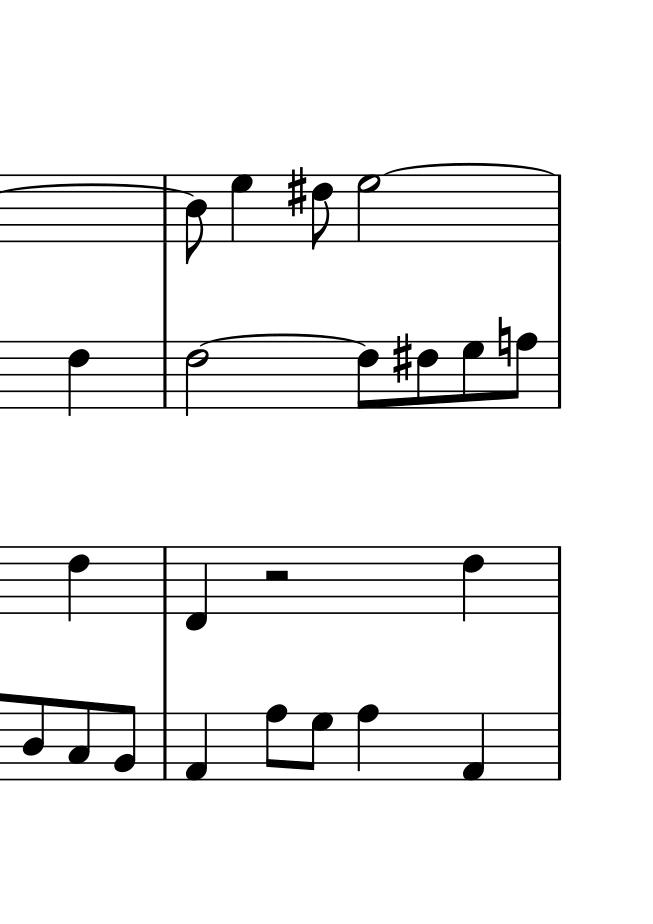2_6: (184, 340, 208, 416)
2_7: (355, 172, 380, 243)
4_-1: (185, 543, 208, 633)
4_1: (183, 712, 209, 783), (461, 712, 487, 783)
4_6: (461, 544, 485, 623), (67, 544, 89, 624), (67, 340, 90, 415)
4_7: (229, 173, 255, 243)
4_8: (355, 703, 379, 781)
8_2: (111, 704, 138, 781)
8_3: (67, 699, 92, 782)
8_4: (21, 695, 47, 782), (184, 174, 208, 266)
8_6: (310, 172, 334, 252), (356, 338, 380, 411), (416, 339, 439, 410)
8_7: (303, 711, 334, 780), (460, 339, 485, 409)
8_8: (509, 331, 539, 411), (264, 703, 288, 783)
Natural: (496, 315, 512, 369)
Rests2: (262, 569, 291, 584)
Sharp: (391, 332, 413, 384), (286, 166, 307, 219)
Single_barline: (157, 712, 174, 780), (157, 547, 174, 614), (552, 176, 567, 243), (552, 547, 567, 613), (552, 340, 566, 410), (158, 341, 173, 406), (551, 715, 566, 780), (159, 174, 171, 246)
Slur: (199, 331, 365, 349), (380, 161, 561, 175)
